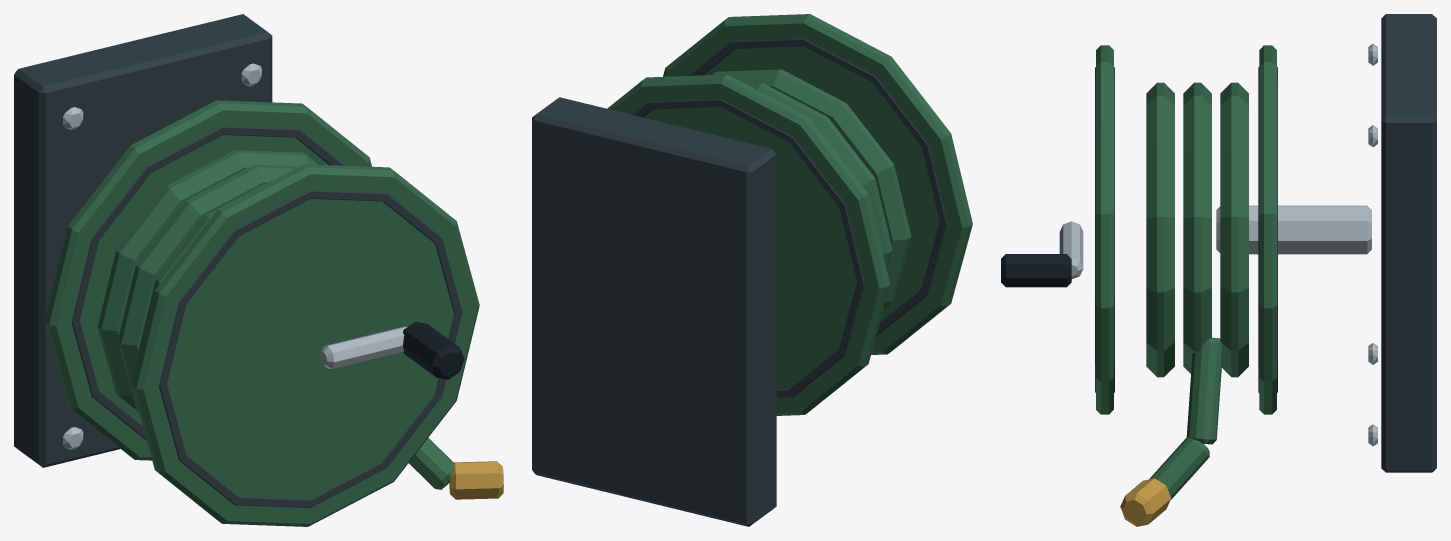
The model's file is b11_wall_mounted_hose_reel.glb.
3 renders of one model, left to right at view 1: azimuth 30°, elevation 25°; view 2: azimuth 150°, elevation 25°; view 3: azimuth 270°, elevation 25°, orthographic. The views are drawn at different scales.
Parts seen in each view (by area): view 1: b11_wall_mounted_hose_reel; view 2: b11_wall_mounted_hose_reel; view 3: b11_wall_mounted_hose_reel.
Boxes of the visible parts, x1=… form: b11_wall_mounted_hose_reel: x1=14, y1=14, x2=503, y2=526; b11_wall_mounted_hose_reel: x1=532, y1=14, x2=972, y2=526; b11_wall_mounted_hose_reel: x1=1001, y1=14, x2=1436, y2=526.
Bounding box in the file's own units: 0.568 × 0.55 × 0.5875.
